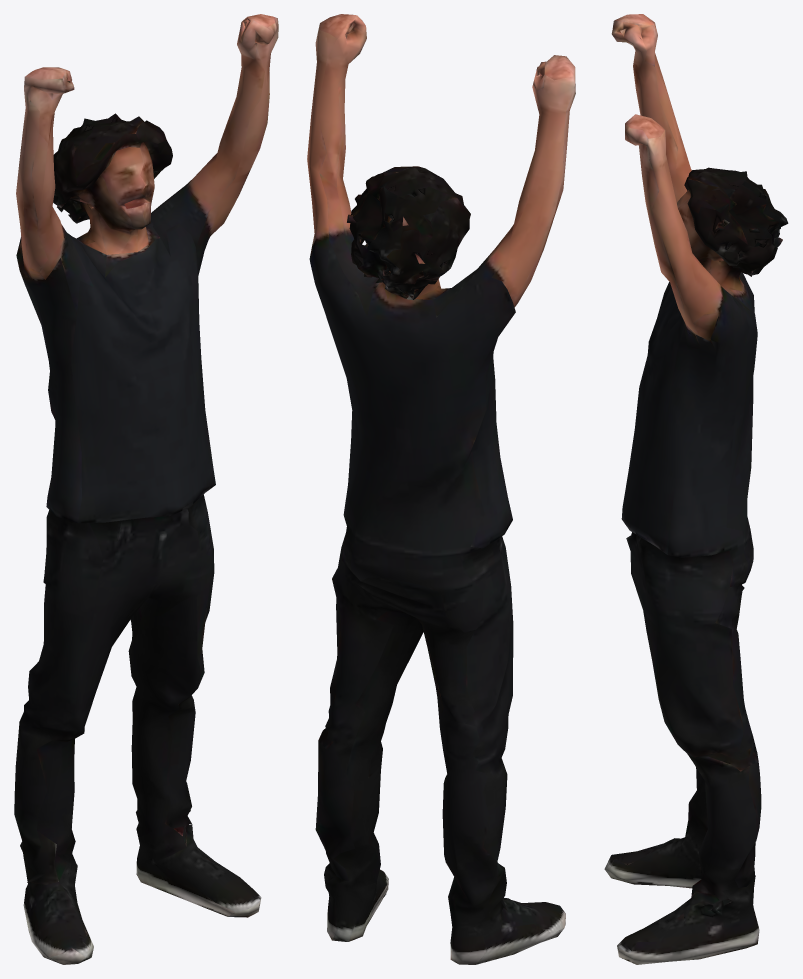
The model's file is fan-arms-up-s1.lo.glb.
The picture shows the model from 3 angles, left to right: view 1: azimuth 30°, elevation 25°; view 2: azimuth 150°, elevation 25°; view 3: azimuth 270°, elevation 25°; orthographic projection. The views are drawn at different scales.
Parts seen in each view (by area): view 1: geometry_0; view 2: geometry_0; view 3: geometry_0.
Part boxes in pixels (bbox=[...]): geometry_0: bbox=[14, 14, 278, 964]; geometry_0: bbox=[307, 14, 575, 964]; geometry_0: bbox=[604, 14, 788, 964].
Bounding box in the file's own units: 0.3028 × 1 × 0.1958.
1 material, 1 textured.
